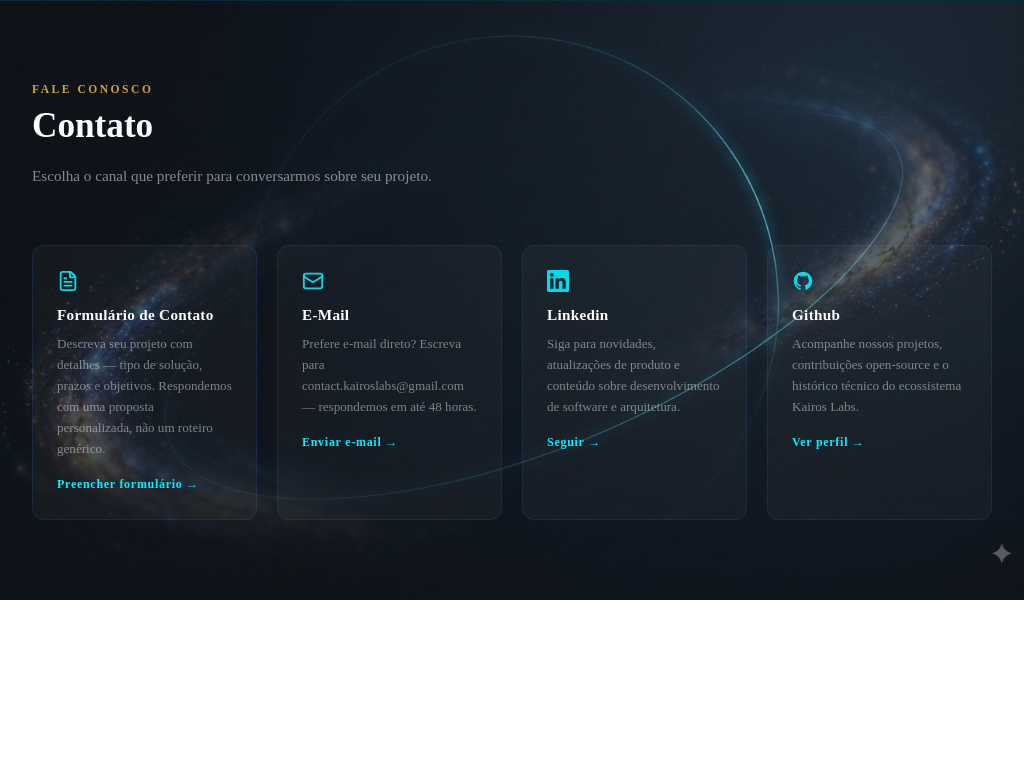
it: ContatoSection › abre o ContactModal ao clicar no card de formulário
Click the button "Formulário de Contato".
click(144, 382)  # box x1=32 y1=245 x2=257 y2=520
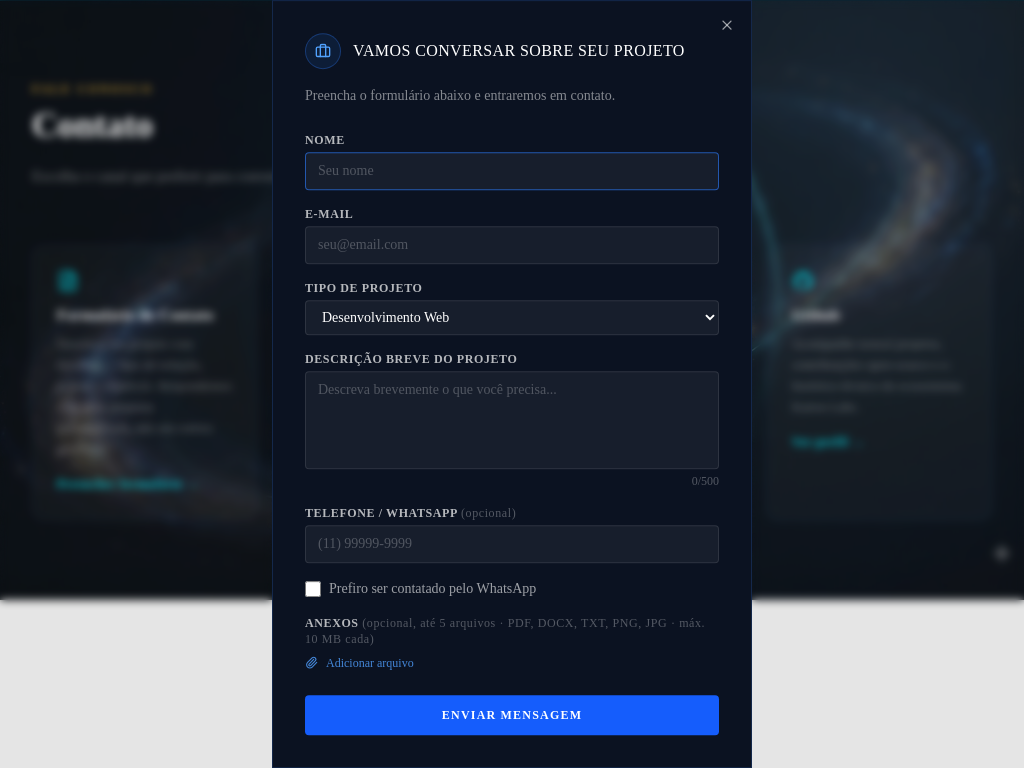
Now the dialog is shown, box x1=272 y1=0 x2=752 y2=767
